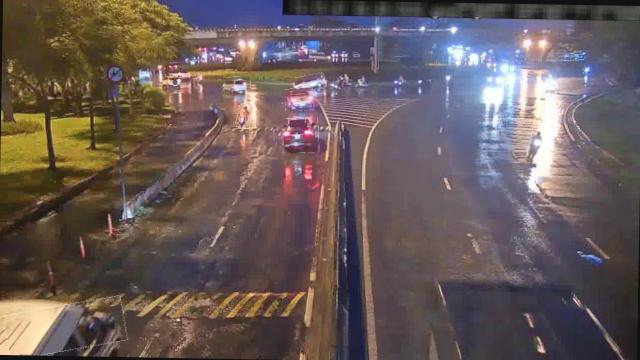Bike: (527, 130, 544, 164), (236, 104, 254, 129)
Bus: (5, 298, 126, 356)
Car: (282, 117, 320, 154), (286, 87, 314, 110), (294, 72, 325, 92), (226, 76, 250, 93)
